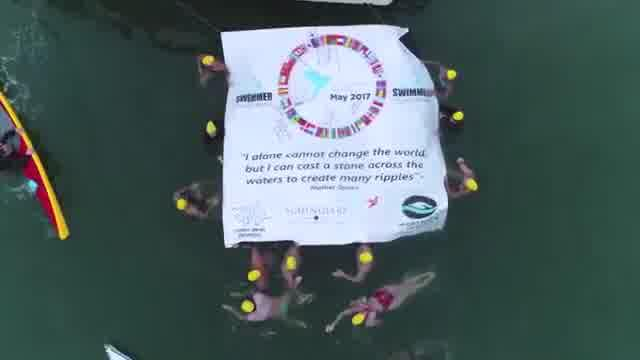swimmer: (330, 270, 436, 334), (228, 287, 304, 328), (330, 240, 378, 286), (170, 182, 217, 226), (441, 158, 484, 202), (423, 59, 467, 102), (190, 51, 230, 89), (277, 245, 309, 291), (251, 248, 271, 290)
